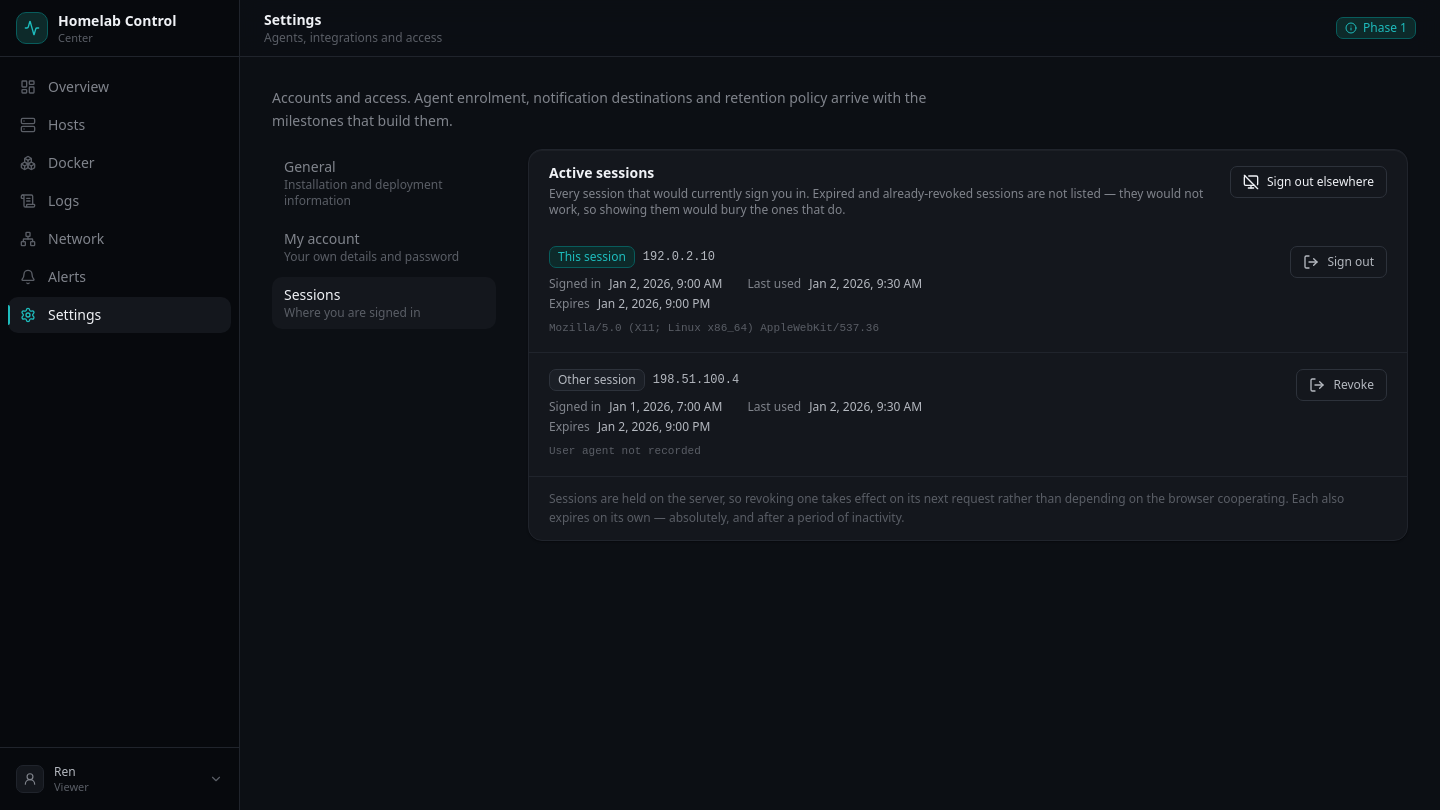
revoking another session › removes it from the list after confirming
Expected: the heading "Active sessions" is shown, [549,162,654,182]
Click the button with aria-label "Revoke the session signed in": (1342, 385) [1296,369,1387,401]
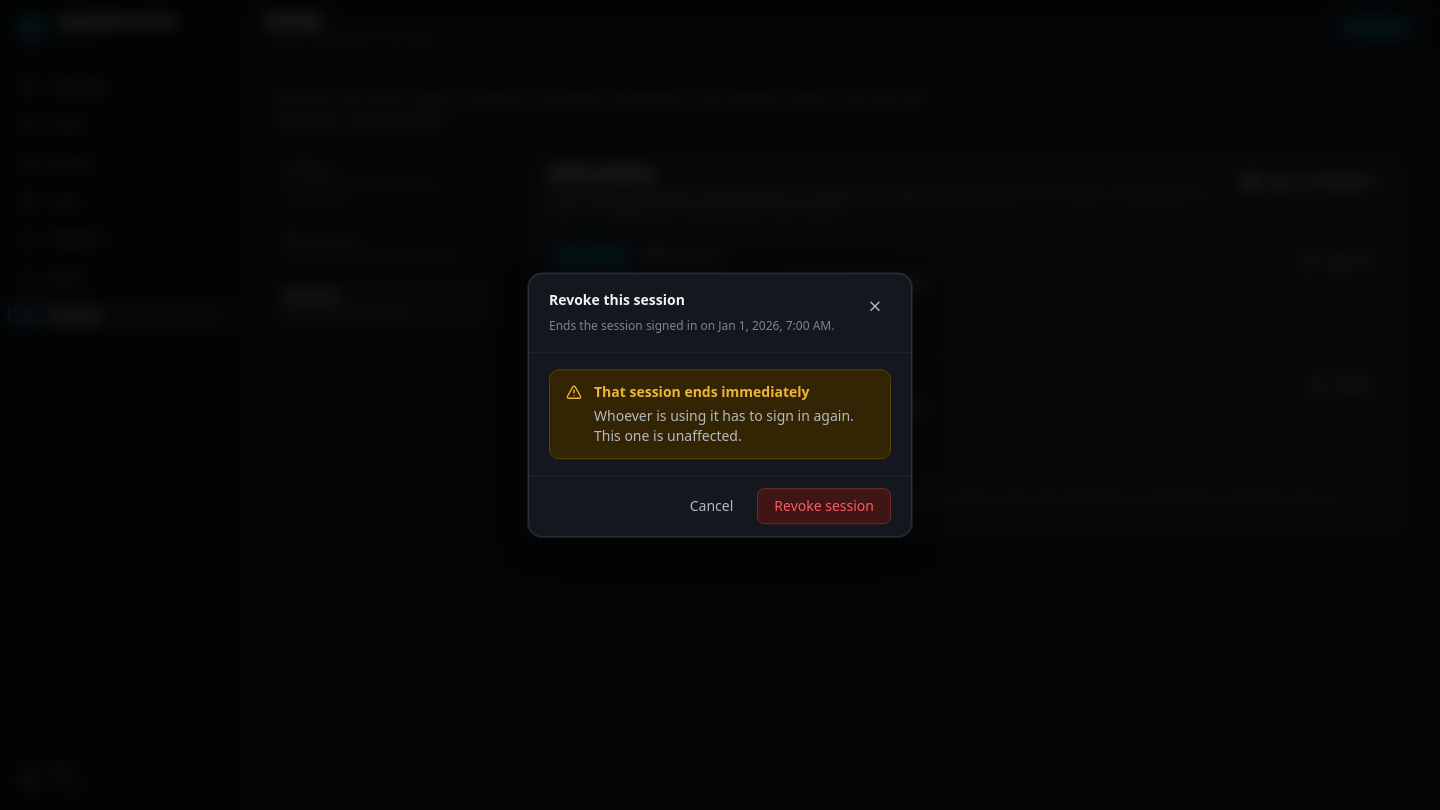
Click the button "Revoke session": (824, 506) [757,488,891,524]
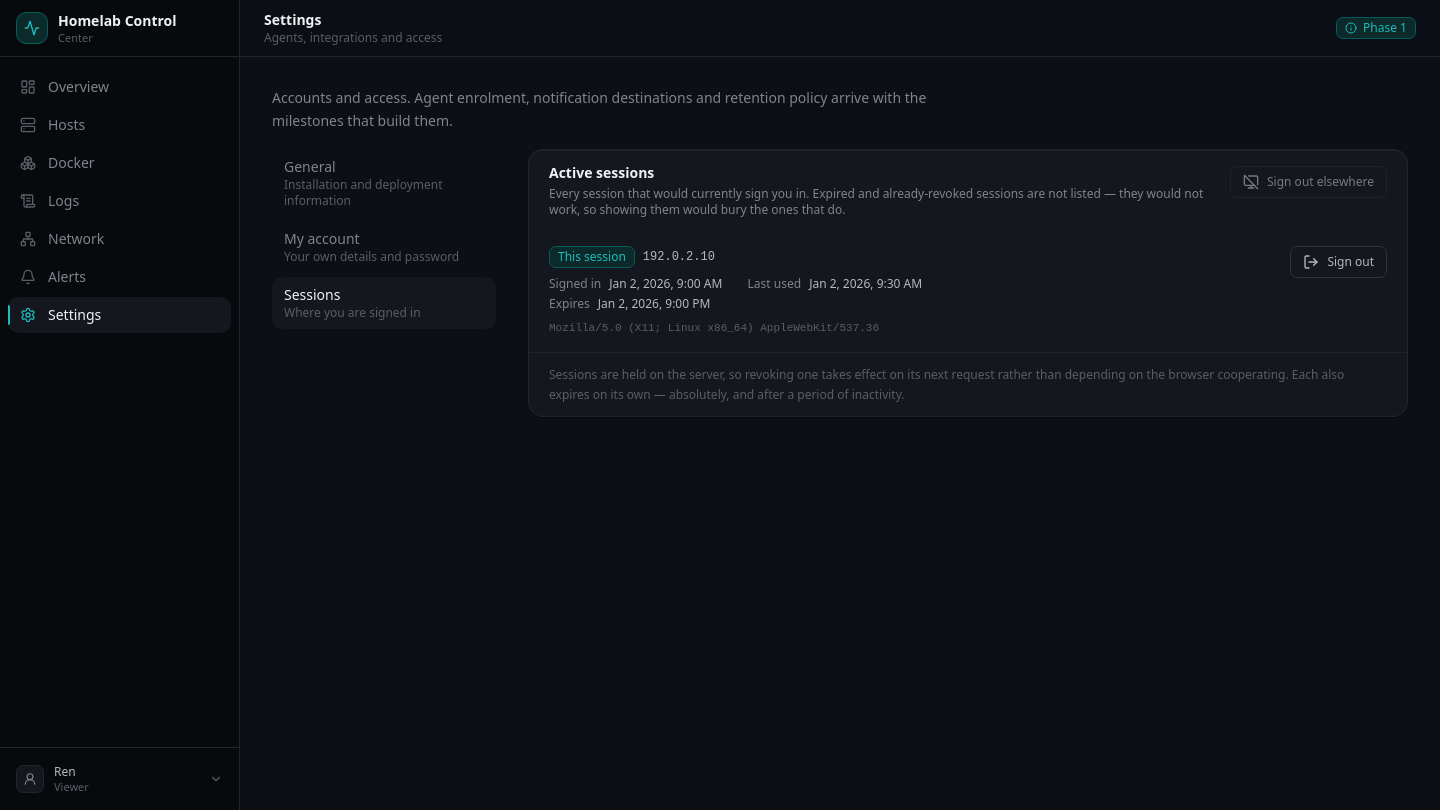
Expected: the text "This session" is shown, [549,246,635,268]
Now the text "Other session" is gone
